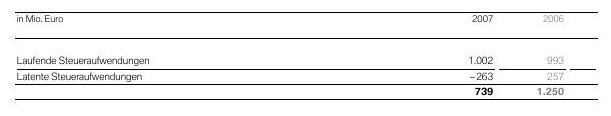table: (0, 0, 611, 116)
